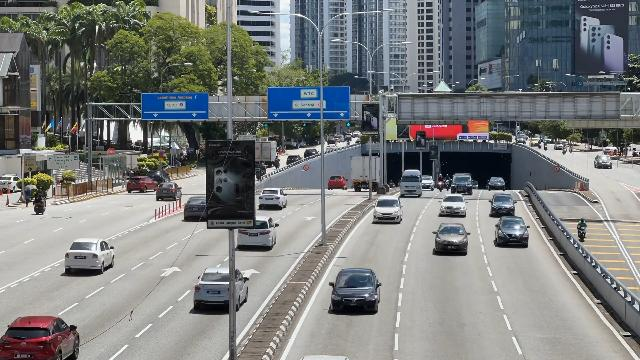car: (2, 315, 81, 360), (193, 266, 251, 314), (329, 267, 383, 314), (63, 238, 118, 275), (237, 215, 276, 250), (493, 216, 531, 249), (432, 224, 470, 254), (373, 195, 404, 226), (438, 192, 469, 218), (489, 191, 517, 218), (258, 188, 289, 212), (183, 196, 209, 222), (126, 176, 159, 194), (155, 181, 184, 200), (326, 172, 347, 192), (593, 151, 615, 170), (0, 174, 22, 193), (145, 170, 170, 184), (486, 176, 506, 191), (420, 175, 435, 191), (286, 155, 302, 166), (304, 148, 319, 159), (603, 144, 618, 155), (284, 139, 299, 149), (531, 134, 542, 144), (516, 135, 528, 144), (554, 142, 565, 150), (542, 136, 552, 144), (327, 137, 336, 145), (344, 134, 352, 142)
motorcycle: (577, 217, 587, 241), (437, 172, 444, 191), (444, 173, 451, 190), (562, 147, 567, 155), (543, 143, 548, 151)
truck: (348, 153, 385, 192), (253, 140, 277, 168)
van: (449, 172, 475, 196), (401, 170, 424, 197), (352, 130, 361, 137)
